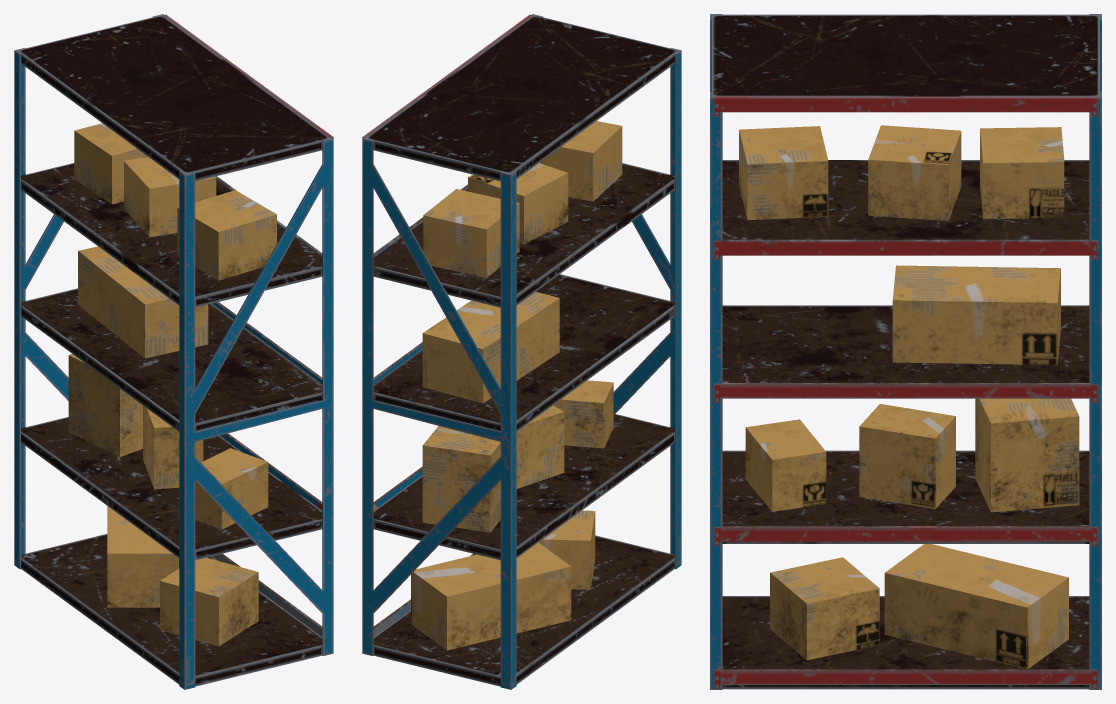
File: Warehouse Shelf.obj
3 views of the same model, side by side, from view 1: azimuth 30°, elevation 25°; view 2: azimuth 150°, elevation 25°; view 3: azimuth 270°, elevation 25° (orthographic). The views are drawn at different scales.
Visible parts, largest first — view 1: Shelf_Cube.022, Warehouse_Shelf_Cube.034, Box_6_Cube.017, Box_7_Cube.018, Box_2_Cube.003, Box_4_Cube.015, Box_1_Cube.002, Box_8_Cube.019, Box_6.001_Cube.029, Box_5_Cube.016, Box_7.001_Cube.030, Box_9_Cube.020 (+8 smaller); view 2: Shelf_Cube.022, Warehouse_Shelf_Cube.034, Box_1_Cube.002, Box_6_Cube.017, Box_1.001_Cube.024, Box_6.001_Cube.029, Box_4_Cube.015, Box_9_Cube.020, Box_7_Cube.018, Box9_Cube.032, Box_8_Cube.019, Box_3_Cube.014 (+8 smaller); view 3: Shelf_Cube.022, Warehouse_Shelf_Cube.034, Box_1_Cube.002, Box_6_Cube.017, Box_4_Cube.015, Box_3_Cube.014, Box_2_Cube.003, Box_6.001_Cube.029, Box_8_Cube.019, Box_7_Cube.018, Box_9_Cube.020, Box_1.001_Cube.024 (+8 smaller).
Part boxes in pixels (x1=…): Shelf_Cube.022: x1=14, y1=14, x2=333, y2=689; Warehouse_Shelf_Cube.034: x1=14, y1=15, x2=333, y2=689; Box_6_Cube.017: x1=78, y1=246, x2=208, y2=358; Box_7_Cube.018: x1=177, y1=190, x2=276, y2=280; Box_2_Cube.003: x1=160, y1=557, x2=258, y2=646; Box_4_Cube.015: x1=68, y1=354, x2=142, y2=456; Box_1_Cube.002: x1=107, y1=506, x2=178, y2=607; Box_8_Cube.019: x1=124, y1=157, x2=216, y2=237; Box_6.001_Cube.029: x1=78, y1=247, x2=208, y2=358; Box_5_Cube.016: x1=195, y1=448, x2=268, y2=529; Box_7.001_Cube.030: x1=177, y1=190, x2=276, y2=280; Box_9_Cube.020: x1=74, y1=123, x2=147, y2=204; Shelf_Cube.022: x1=362, y1=14, x2=681, y2=689; Warehouse_Shelf_Cube.034: x1=362, y1=15, x2=681, y2=689; Box_1_Cube.002: x1=411, y1=542, x2=571, y2=650; Box_6_Cube.017: x1=422, y1=292, x2=559, y2=403; Box_1.001_Cube.024: x1=411, y1=542, x2=571, y2=650; Box_6.001_Cube.029: x1=422, y1=292, x2=559, y2=402; Box_4_Cube.015: x1=422, y1=426, x2=500, y2=532; Box_9_Cube.020: x1=423, y1=189, x2=519, y2=277; Box_7_Cube.018: x1=540, y1=121, x2=622, y2=201; Box9_Cube.032: x1=423, y1=189, x2=518, y2=277; Box_8_Cube.019: x1=468, y1=163, x2=568, y2=244; Box_3_Cube.014: x1=516, y1=405, x2=564, y2=488; Shelf_Cube.022: x1=710, y1=14, x2=1101, y2=689; Warehouse_Shelf_Cube.034: x1=710, y1=14, x2=1101, y2=689; Box_1_Cube.002: x1=884, y1=544, x2=1068, y2=669; Box_6_Cube.017: x1=892, y1=265, x2=1060, y2=365; Box_4_Cube.015: x1=975, y1=398, x2=1079, y2=512; Box_3_Cube.014: x1=859, y1=404, x2=955, y2=509; Box_2_Cube.003: x1=770, y1=557, x2=879, y2=660; Box_6.001_Cube.029: x1=892, y1=265, x2=1060, y2=364; Box_8_Cube.019: x1=868, y1=125, x2=961, y2=220; Box_7_Cube.018: x1=739, y1=126, x2=828, y2=219; Box_9_Cube.020: x1=980, y1=127, x2=1064, y2=219; Box_1.001_Cube.024: x1=884, y1=544, x2=1068, y2=668.
Size of the model in its own units: 0.6172 by 2.02 by 1.21.
